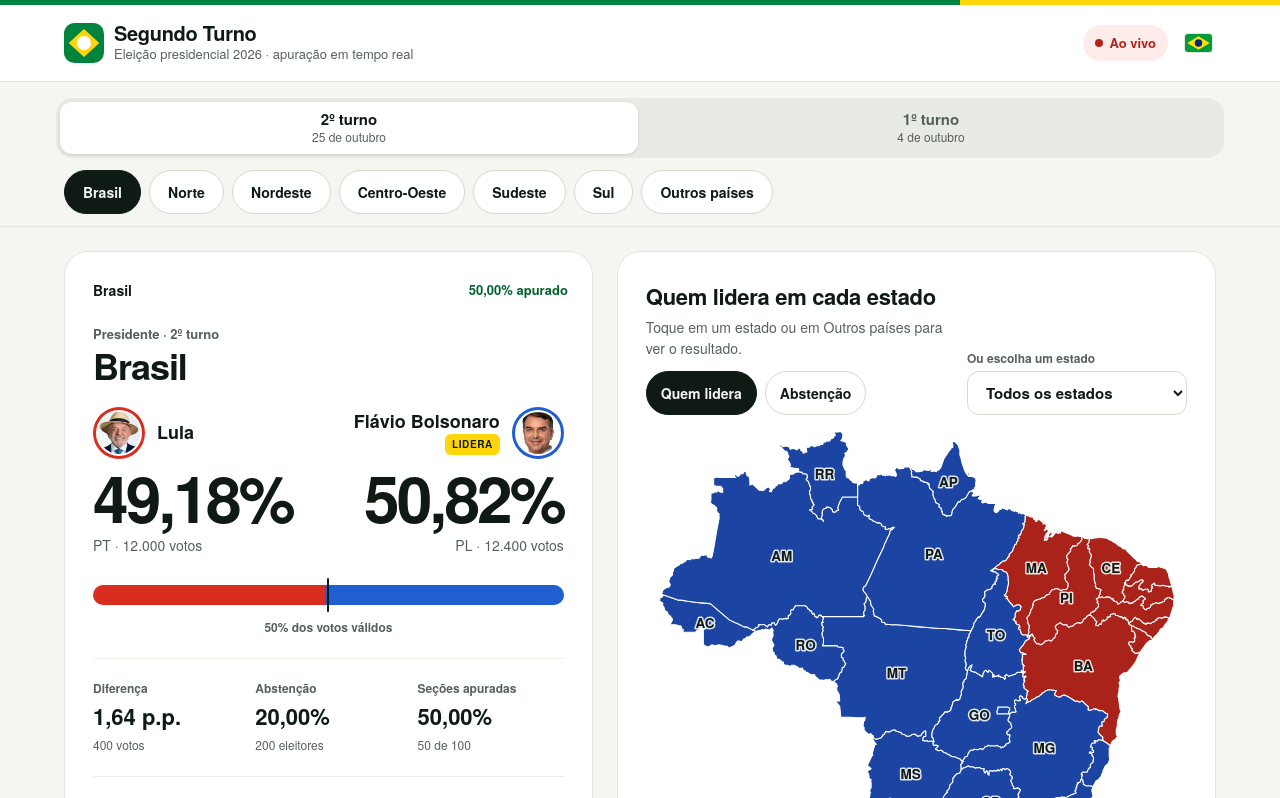
Test: App abroad votes › shows abroad results from the scope picker
Click the button "Outros países" at (707, 192), box [641,170,773,214]
(page scrolled)
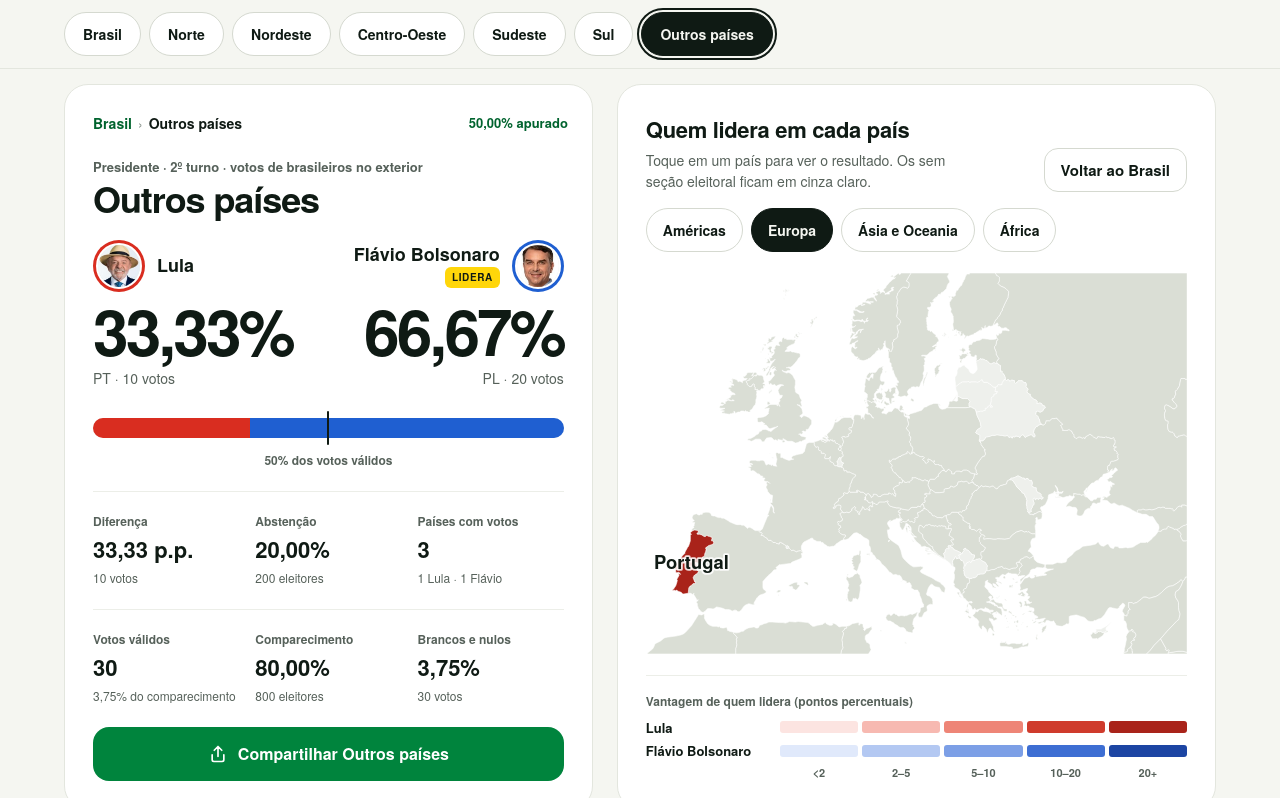
expect the text "66,67%" is shown: met, box [364,298,564,362]
